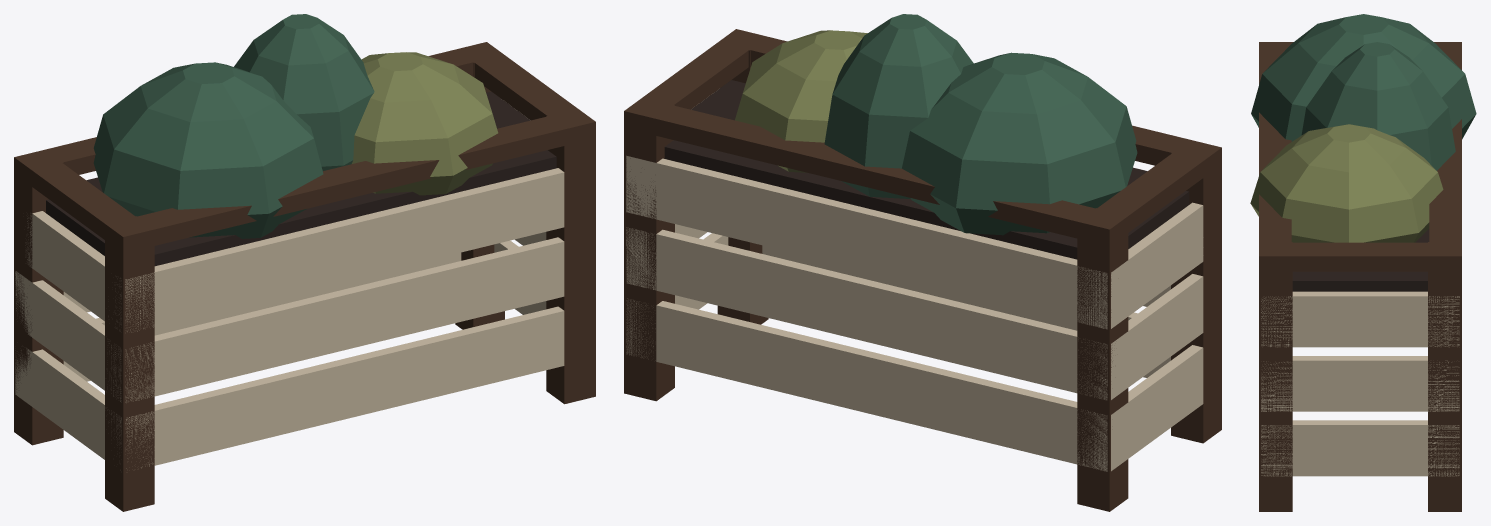
The model's file is FN_Planter_Box.glb.
3 renders of one model, left to right at view 1: azimuth 30°, elevation 25°; view 2: azimuth 150°, elevation 25°; view 3: azimuth 270°, elevation 25°, orthographic. The views are drawn at different scales.
Parts seen in each view (by area): view 1: FN_Planter_Box; view 2: FN_Planter_Box; view 3: FN_Planter_Box.
Boxes of the visible parts, box(x1,y1,x2,y2) form: FN_Planter_Box: box(14, 14, 595, 511); FN_Planter_Box: box(624, 14, 1221, 511); FN_Planter_Box: box(1250, 14, 1476, 511).
Bounding box in the file's own units: 0.9 × 0.7 × 0.401.
Materials: 1 (1 with a texture image).
